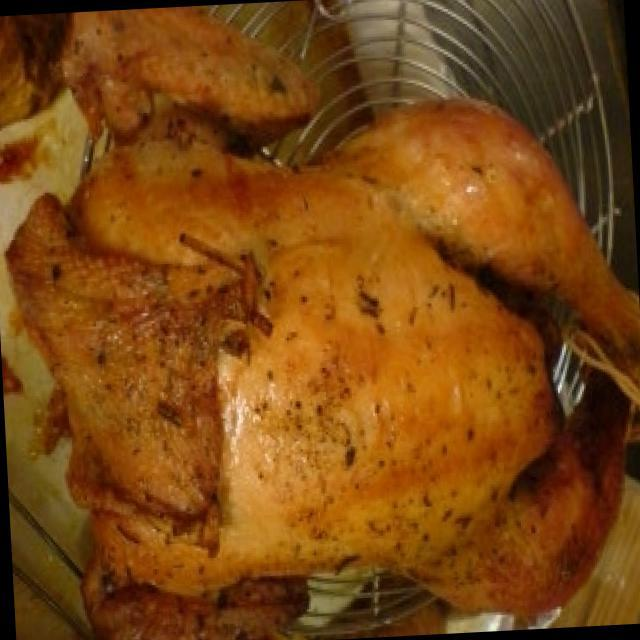Chicken: (19, 100, 640, 640)
